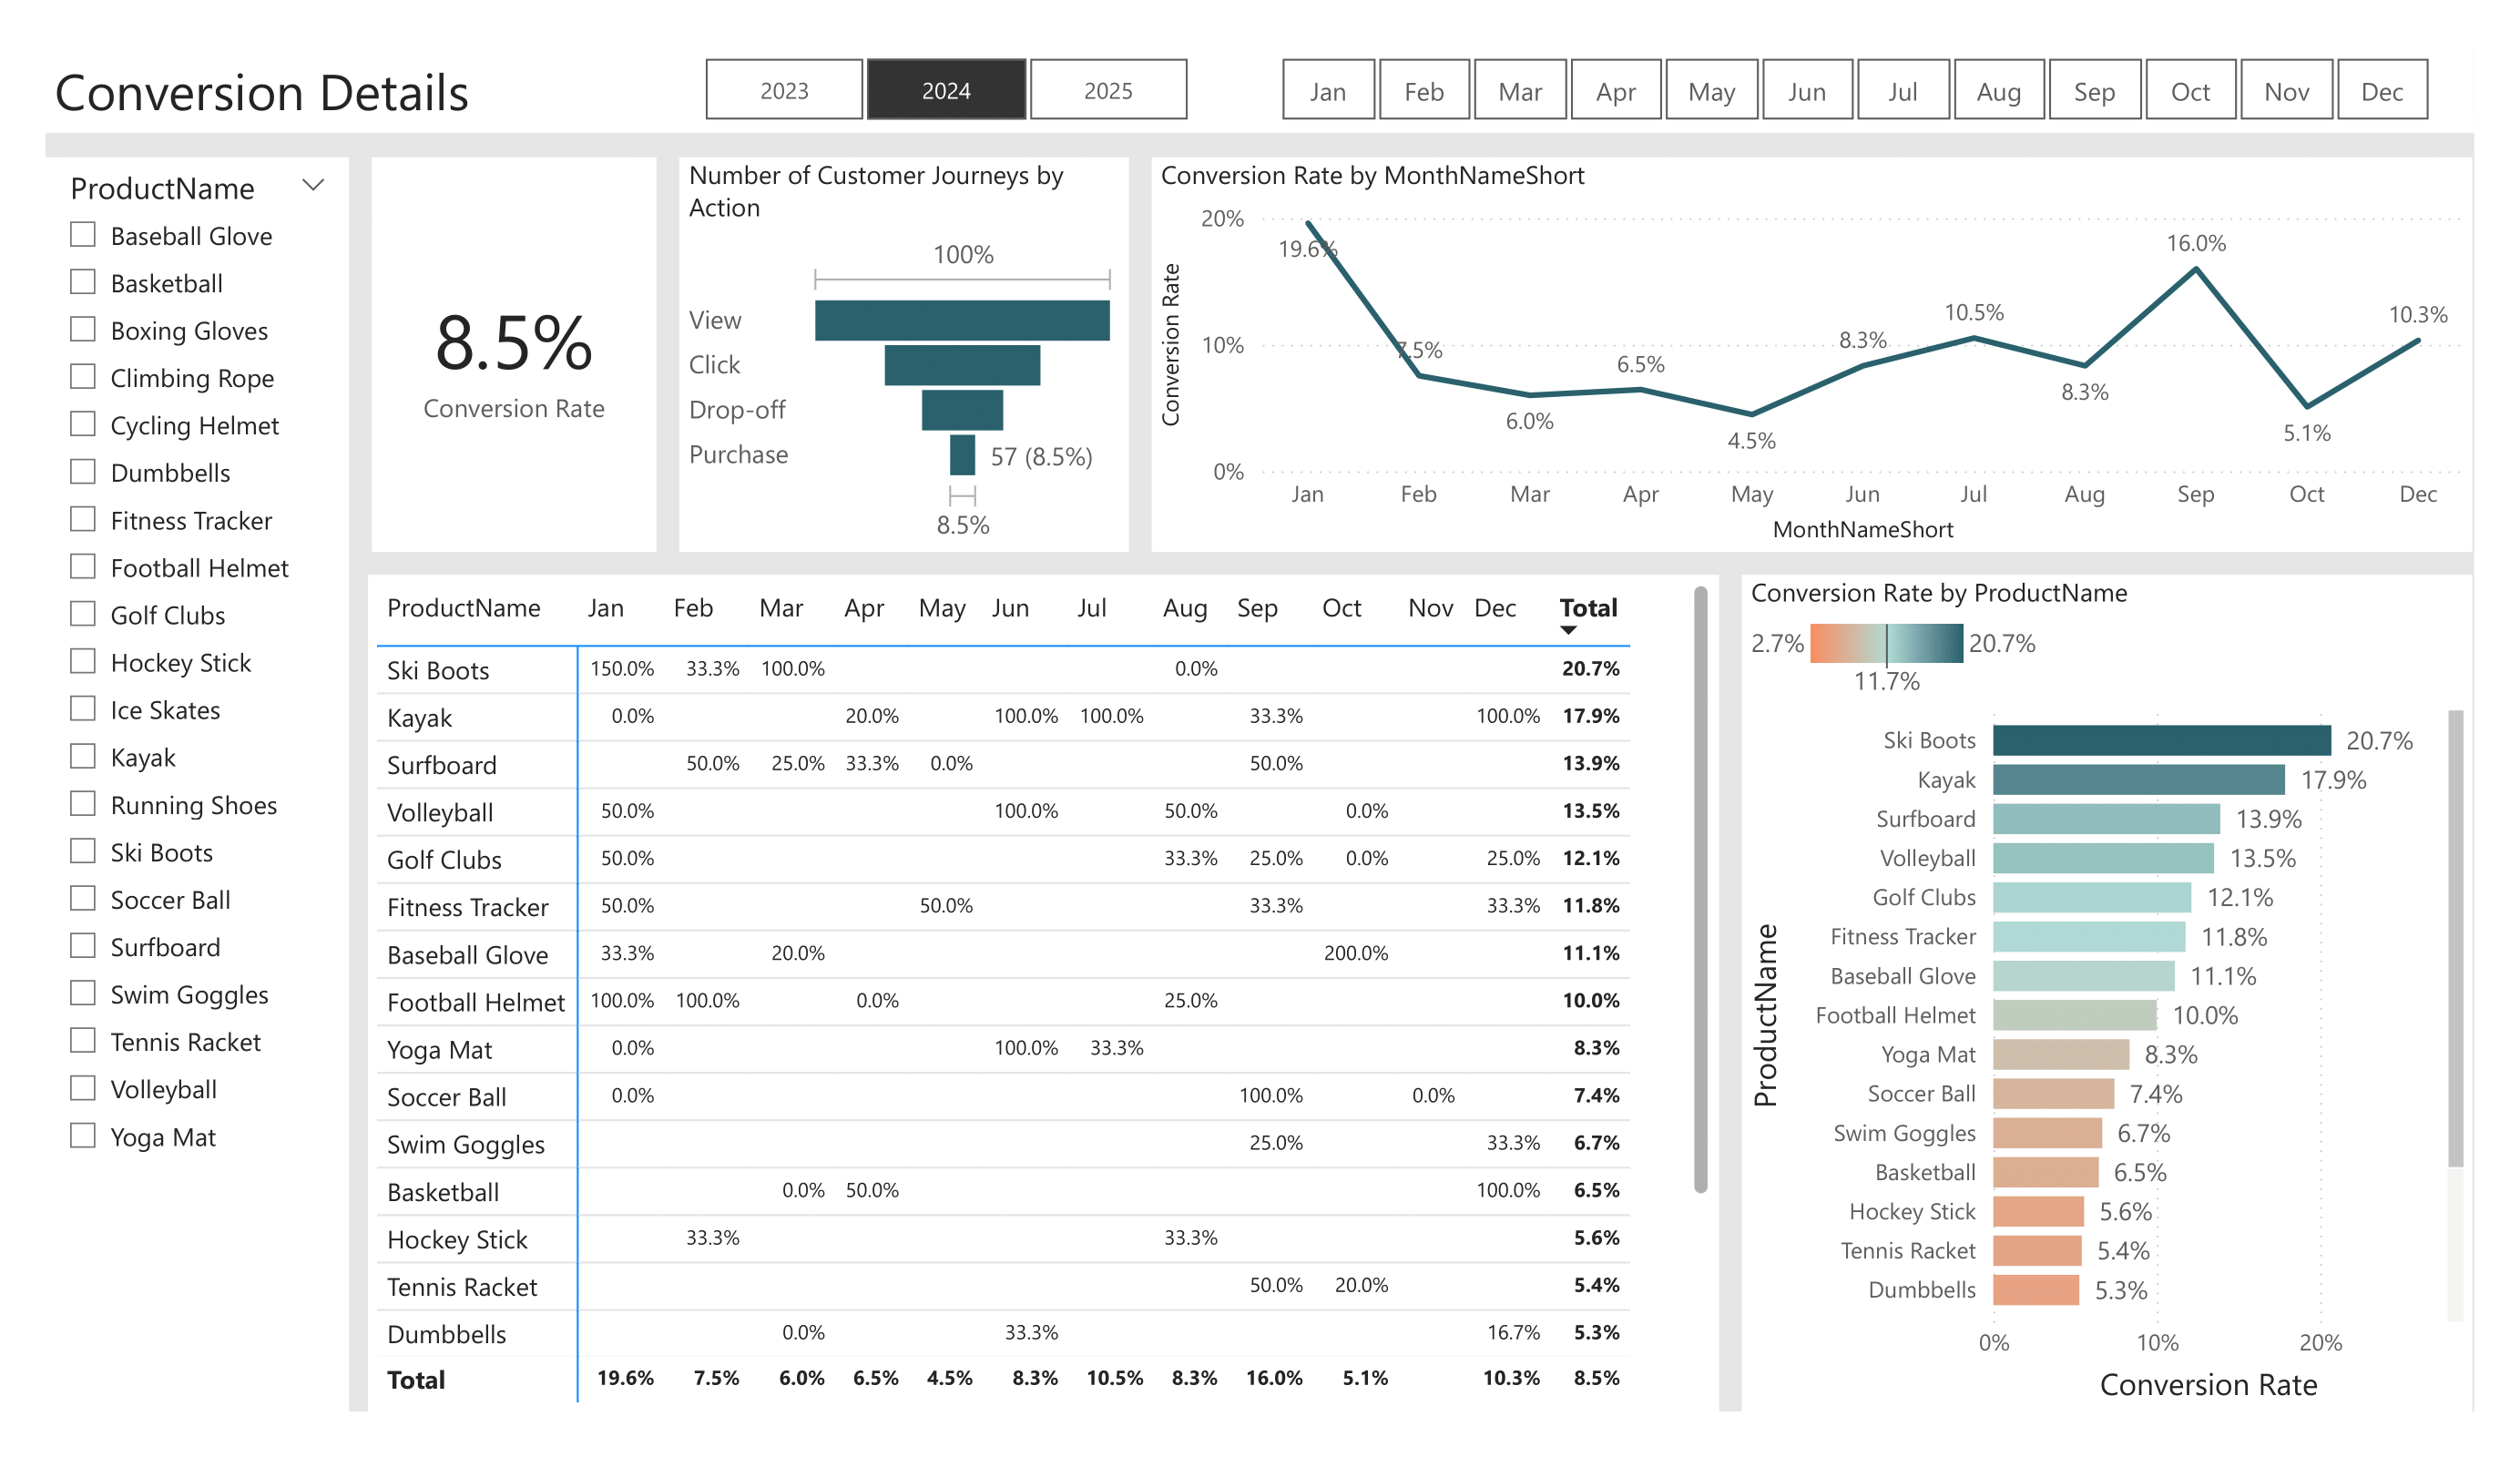

The page's visual inventory and layout, read from the dashboard file:
{"tool":"powerbi","page":{"name":"Conversion Details","canvas":[1280,720],"ordinal":1},"visuals":[{"type":"textbox","box":[0,0,1280.3,46.5],"z":0},{"type":"slicer","fields":{"Values":["dim_products.ProductName"]},"box":[0,58.7,160.2,661.6],"z":1000},{"type":"card","fields":{"Values":["_Calculations.Conversion Rate"]},"box":[172.4,58.7,149.2,207.9],"z":2000},{"type":"slicer","fields":{"Values":["Calendar.Year"]},"box":[321.6,0,304.5,46.5],"z":3000},{"type":"slicer","fields":{"Values":["Calendar.MonthNameShort"]},"box":[626.1,0,654.2,46.5],"z":4000},{"type":"lineChart","fields":{"Y":["_Calculations.Conversion Rate"],"Category":["Calendar.MonthNameShort"]},"box":[583.3,58.7,695.8,207.9],"z":5000},{"type":"clusteredBarChart","fields":{"Category":["dim_products.ProductName"],"Y":["_Calculations.Conversion Rate"]},"box":[893.9,278.8,385.2,441.4],"z":6000},{"type":"pivotTable","fields":{"Values":["_Calculations.Conversion Rate"],"Rows":["dim_products.ProductName"],"Columns":["Calendar.MonthNameShort"]},"box":[170,278.8,711.7,441.4],"z":7000},{"type":"funnel","fields":{"Y":["_Calculations.Number of Customer Journeys"],"Category":["fact_customer_journey.Action"]},"box":[333.8,58.7,237.2,207.9],"z":8000}]}

Visuals, with their boxes in screenshot pixels (x1, y1, x2, y2):
textbox: pyautogui.locateOnScreen(46, 46, 2474, 134)
slicer - dim_products.ProductName: pyautogui.locateOnScreen(46, 157, 350, 1411)
card - _Calculations.Conversion Rate: pyautogui.locateOnScreen(372, 157, 656, 551)
slicer - Calendar.Year: pyautogui.locateOnScreen(656, 46, 1234, 134)
slicer - Calendar.MonthNameShort: pyautogui.locateOnScreen(1234, 46, 2474, 134)
lineChart - _Calculations.Conversion Rate x Calendar.MonthNameShort: pyautogui.locateOnScreen(1152, 157, 2473, 551)
clusteredBarChart - dim_products.ProductName x _Calculations.Conversion Rate: pyautogui.locateOnScreen(1742, 575, 2473, 1411)
pivotTable - _Calculations.Conversion Rate x dim_products.ProductName: pyautogui.locateOnScreen(368, 575, 1719, 1411)
funnel - _Calculations.Number of Customer Journeys x fact_customer_journey.Action: pyautogui.locateOnScreen(679, 157, 1129, 551)
